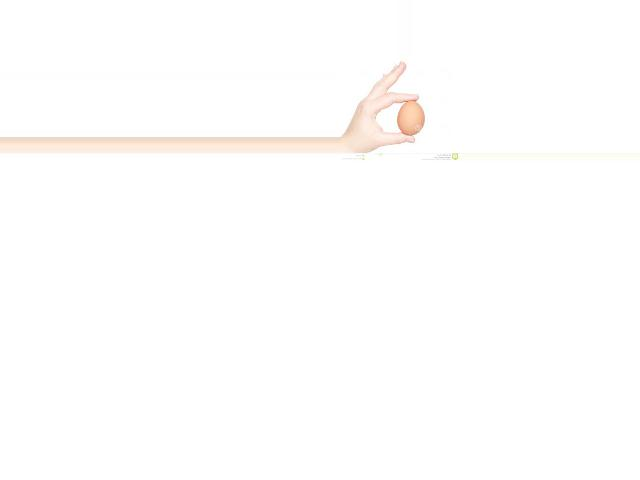egg: (396, 100, 424, 136)
